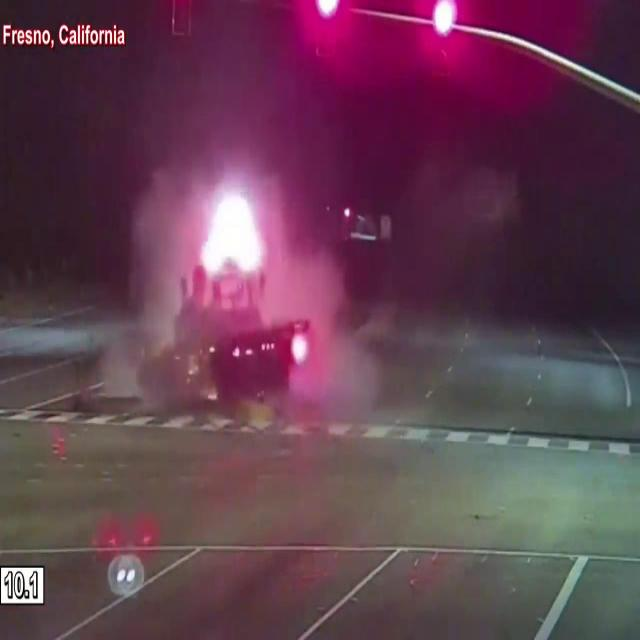accident: (128, 258, 312, 425)
